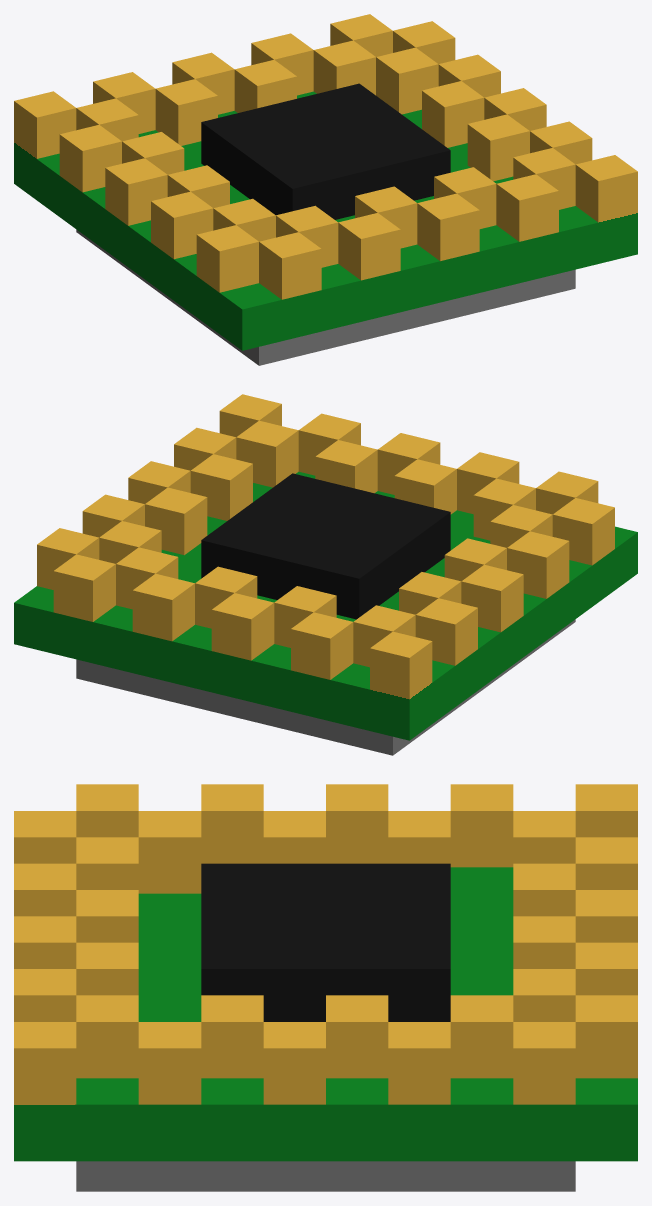
File: cpu.dae
3 views of the same model, one above another, from view 1: azimuth 30°, elevation 25°; view 2: azimuth 150°, elevation 25°; view 3: azimuth 270°, elevation 25° (orthographic). The views are drawn at different scales.
Visible parts, largest first — view 1: cpu; view 2: cpu; view 3: cpu.
Boxes of the visible parts, x1,y1,x2,y2 form: cpu: [14, 14, 637, 365]; cpu: [14, 394, 637, 755]; cpu: [14, 784, 637, 1191].
Size of the model in its own units: 1 by 0.3 by 1.
1 material, 1 textured.
